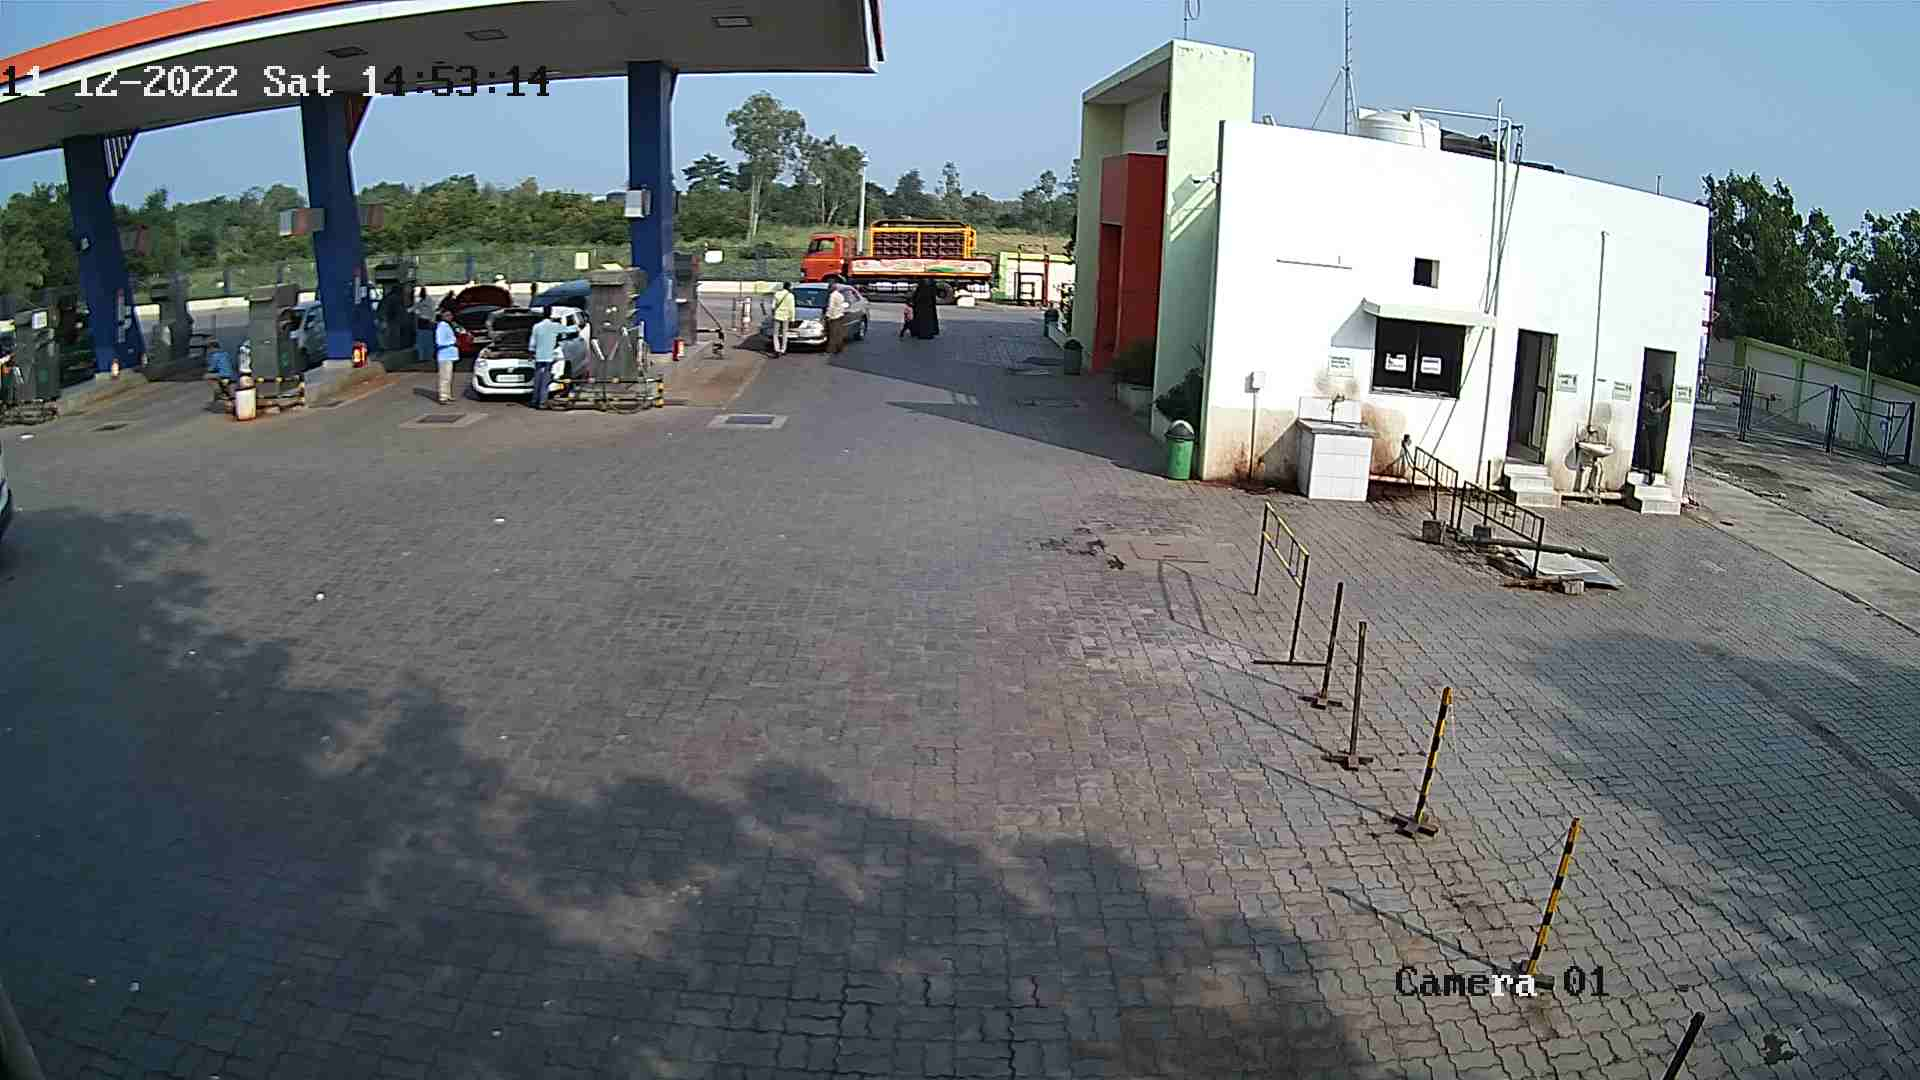Car: (463, 299, 596, 400), (753, 276, 872, 356), (418, 276, 524, 365), (229, 293, 330, 382), (0, 368, 28, 611), (525, 274, 593, 324)
HMV: (793, 218, 1002, 307)
